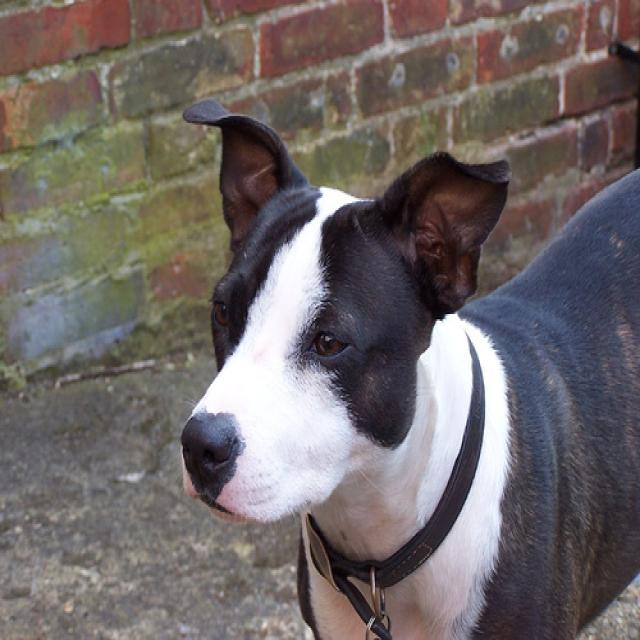dog-staffordshire_bull_terrier: (166, 85, 637, 637)
